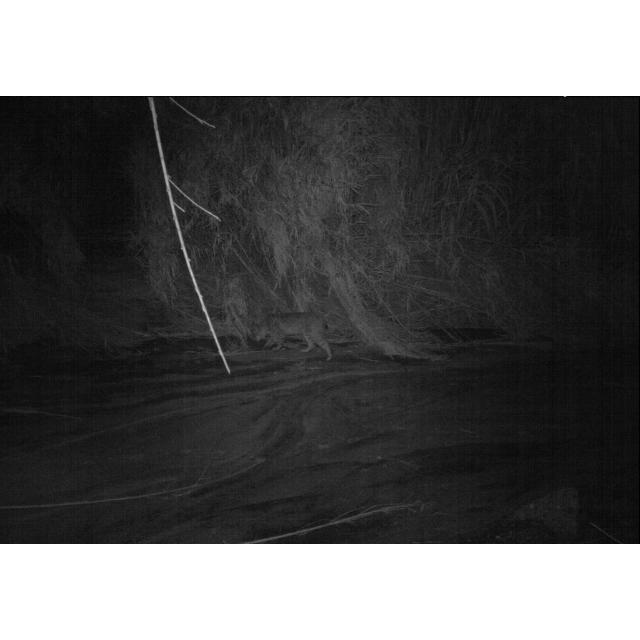animals: (248, 308, 336, 358)
